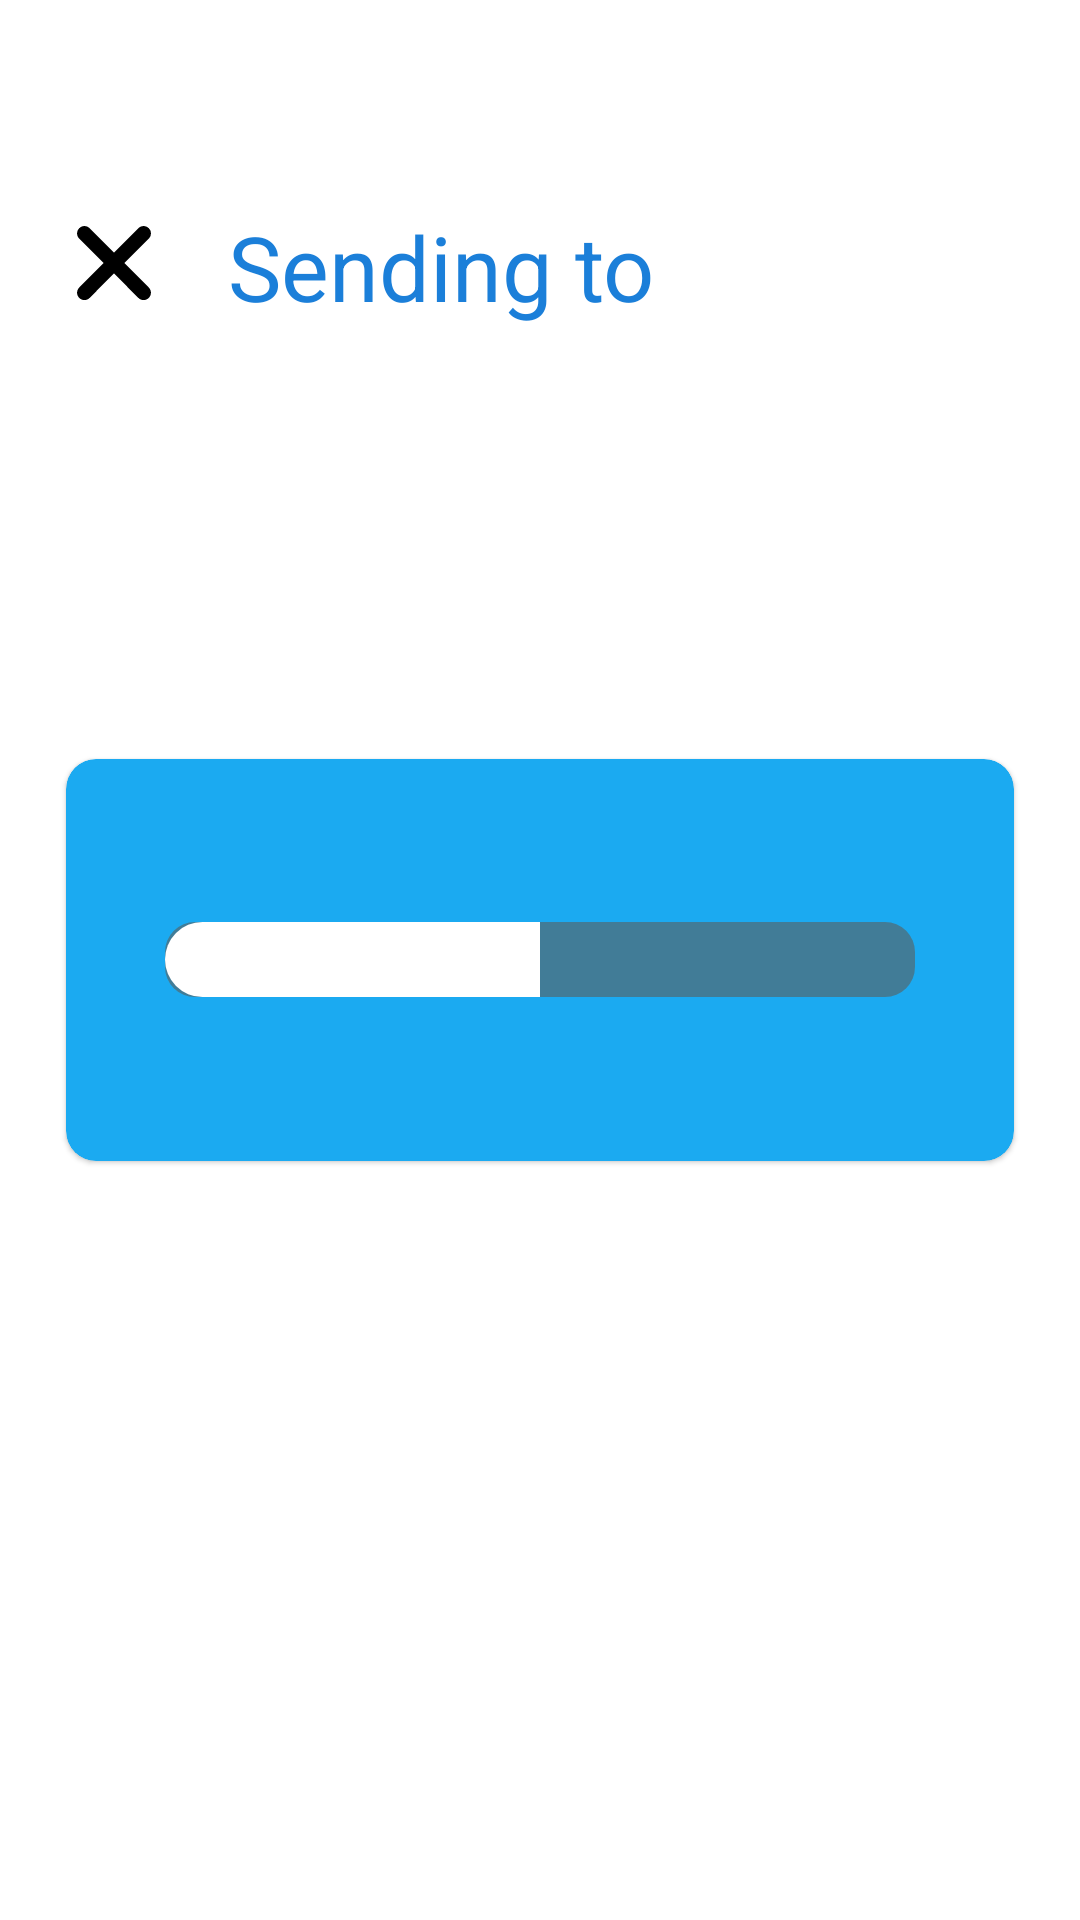

Named icons in this screenshot (1080 × 1920) and their bounding boxes, (x1, y1, x2, y2):
cross: (77, 226, 151, 300)
